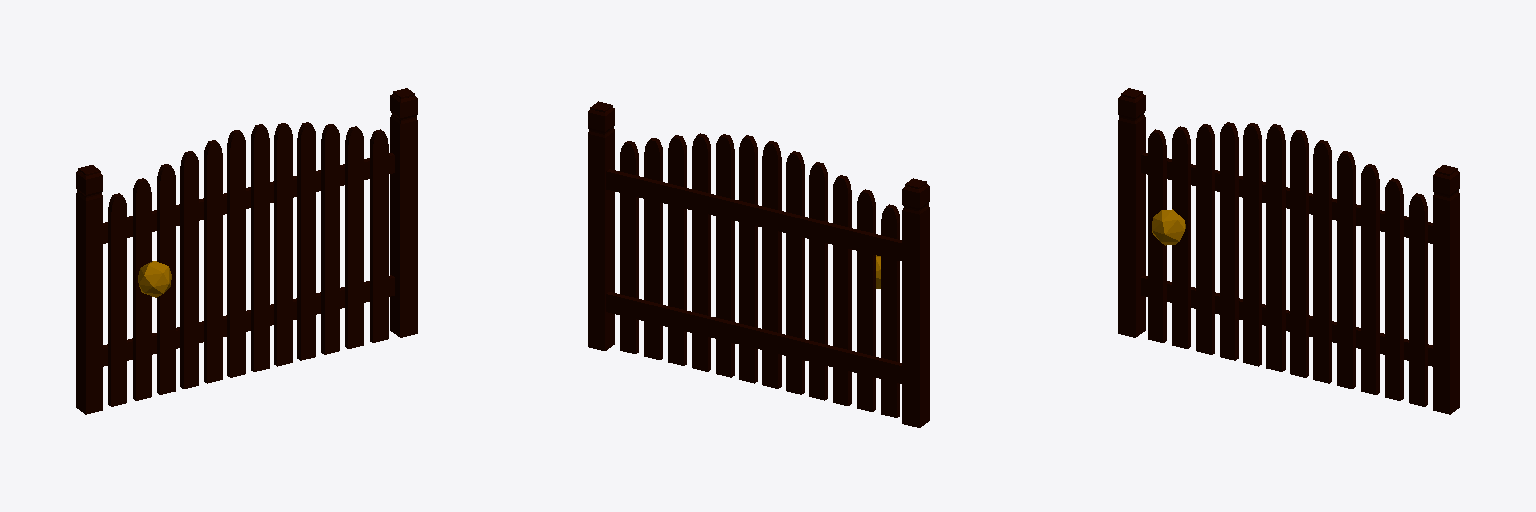
The model's file is door.obj.
The picture shows the model from 3 angles: view 1: azimuth 30°, elevation 25°; view 2: azimuth 150°, elevation 25°; view 3: azimuth 330°, elevation 25°; orthographic projection.
Parts seen in each view (by area): view 1: fencee_Cube.016, Icosphere; view 2: fencee_Cube.016; view 3: fencee_Cube.016, Icosphere.
Part boxes in pixels (bbox=[...]): fencee_Cube.016: bbox=[76, 88, 417, 414]; Icosphere: bbox=[138, 261, 171, 297]; fencee_Cube.016: bbox=[588, 101, 929, 427]; fencee_Cube.016: bbox=[1118, 88, 1459, 414]; Icosphere: bbox=[1152, 209, 1185, 245].
Bounding box in the file's own units: 6.09 × 4.26 × 0.9063.